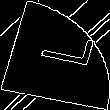L_W: (21, 34, 89, 76)
